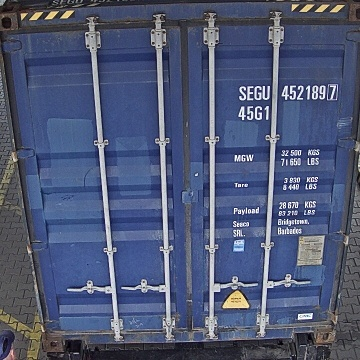serial_id: (239, 84, 338, 100)
